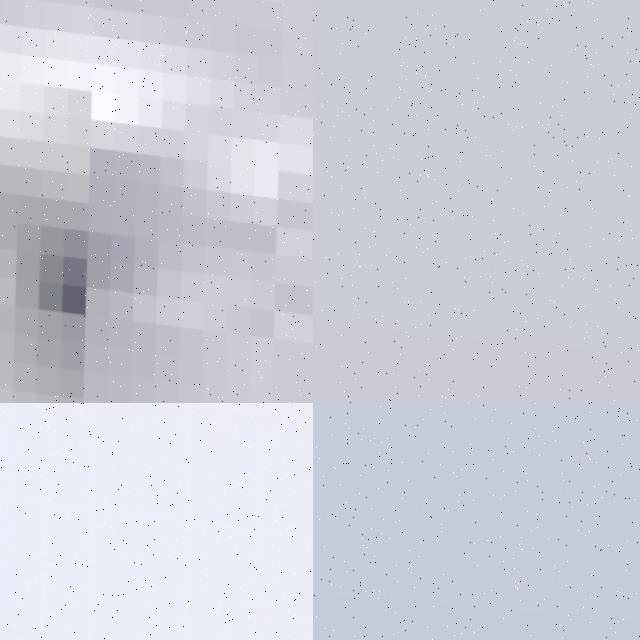drone: (0, 0, 313, 403), (0, 403, 313, 640)
